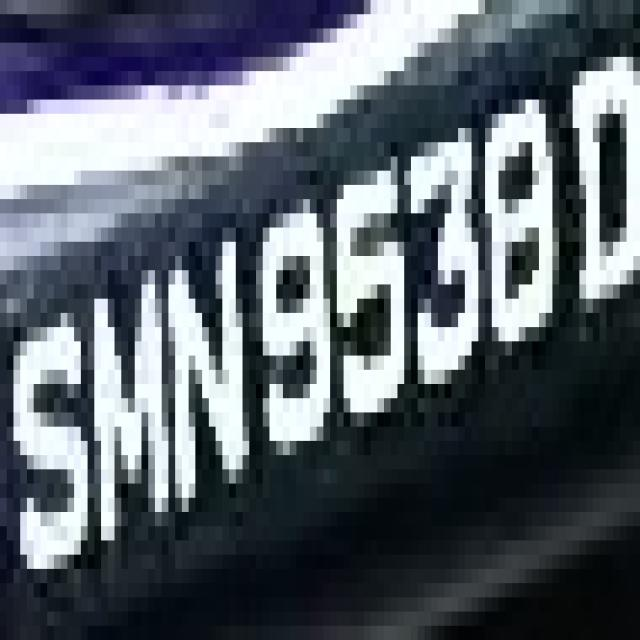3: (404, 85, 492, 412)
5: (324, 171, 432, 441)
8: (464, 43, 572, 384)
9: (243, 170, 330, 498)
D: (559, 14, 640, 342)
M: (87, 228, 182, 583)
N: (162, 228, 249, 512)
S: (7, 242, 101, 597)
